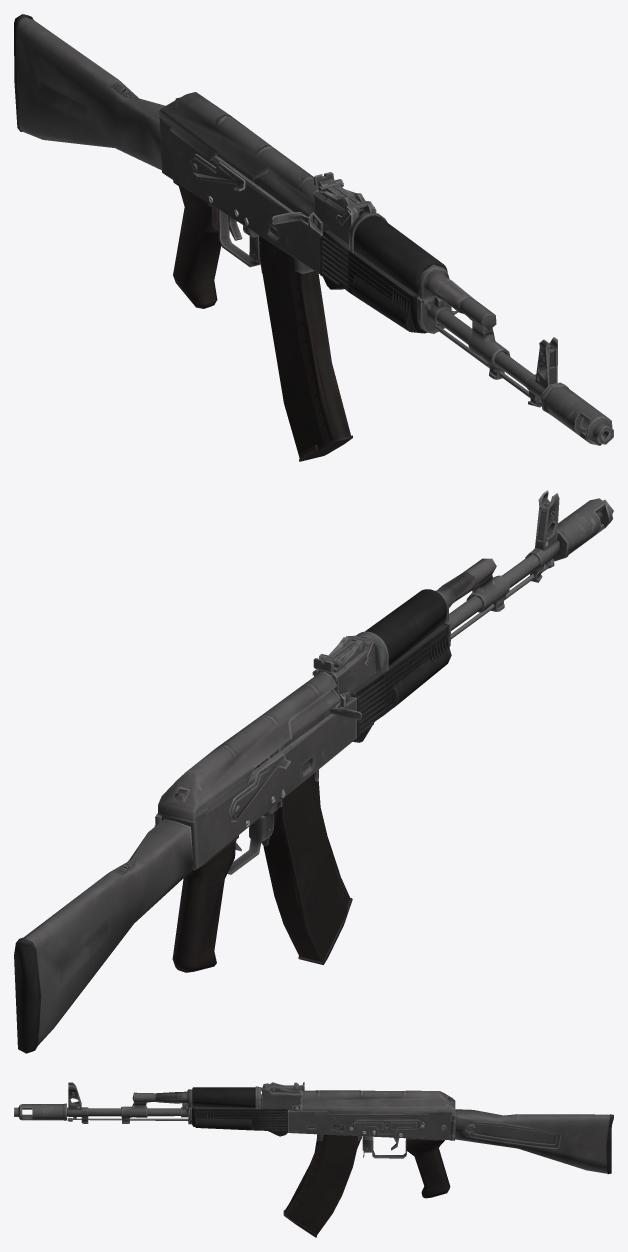
Rendered from enemy_ak.glb.
3 renders of one model, top to bottom at view 1: azimuth 30°, elevation 25°; view 2: azimuth 150°, elevation 25°; view 3: azimuth 270°, elevation 25°, orthographic. The views are drawn at different scales.
Visible parts, largest first — view 1: Object_97; view 2: Object_97; view 3: Object_97.
Part boxes in pixels (left/top/right/bottom): Object_97: left=14, top=14, right=613, bottom=461; Object_97: left=14, top=490, right=613, bottom=1053; Object_97: left=14, top=1082, right=613, bottom=1237.
Size of the model in its own units: 0.096 by 0.3849 by 1.38.
Materials: 1 (1 with a texture image).
